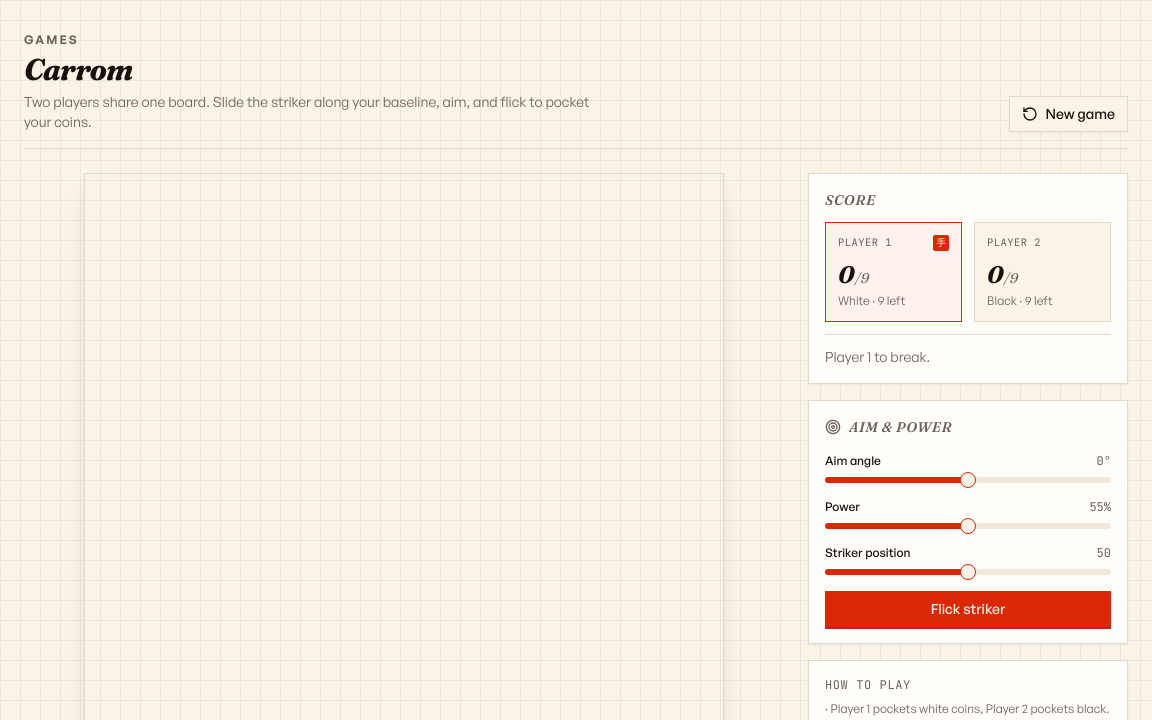
Scenario: CarromPage › moves pieces and alternates the turn after a striker shot
The image size is (1152, 720).
Click the button "Flick striker".
click(968, 609)  # box [825,591,1111,627]
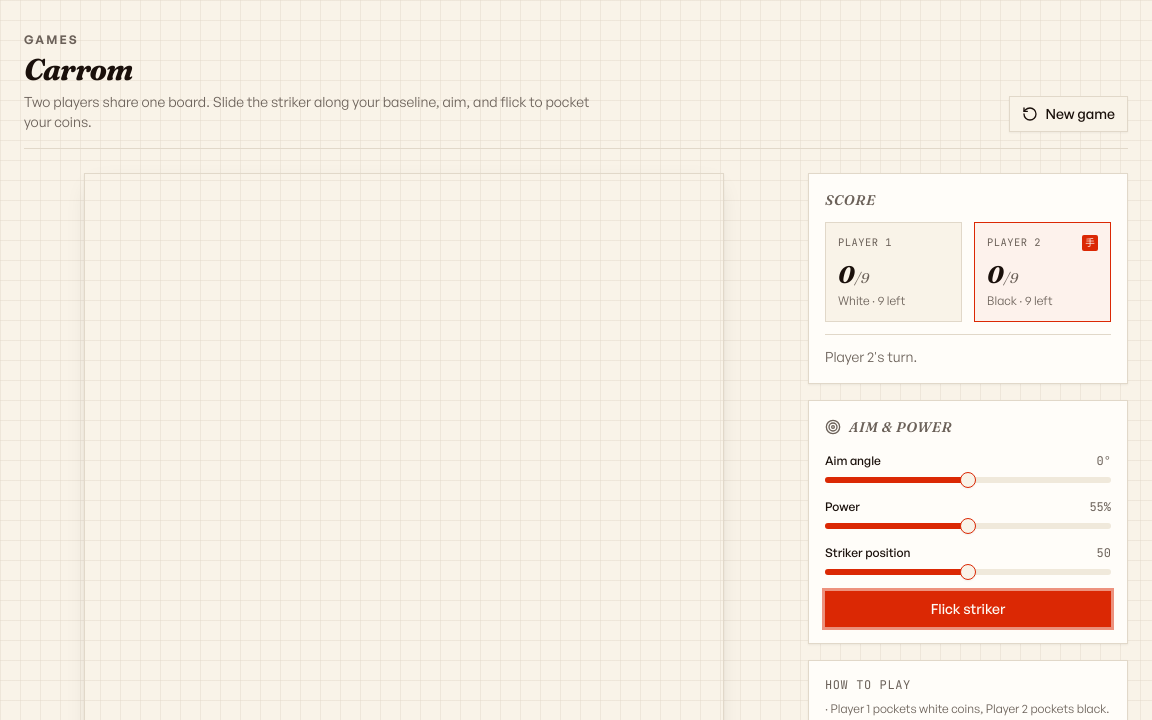
Expected: the text "Player 2's turn." is shown, [825,334,1111,367]
